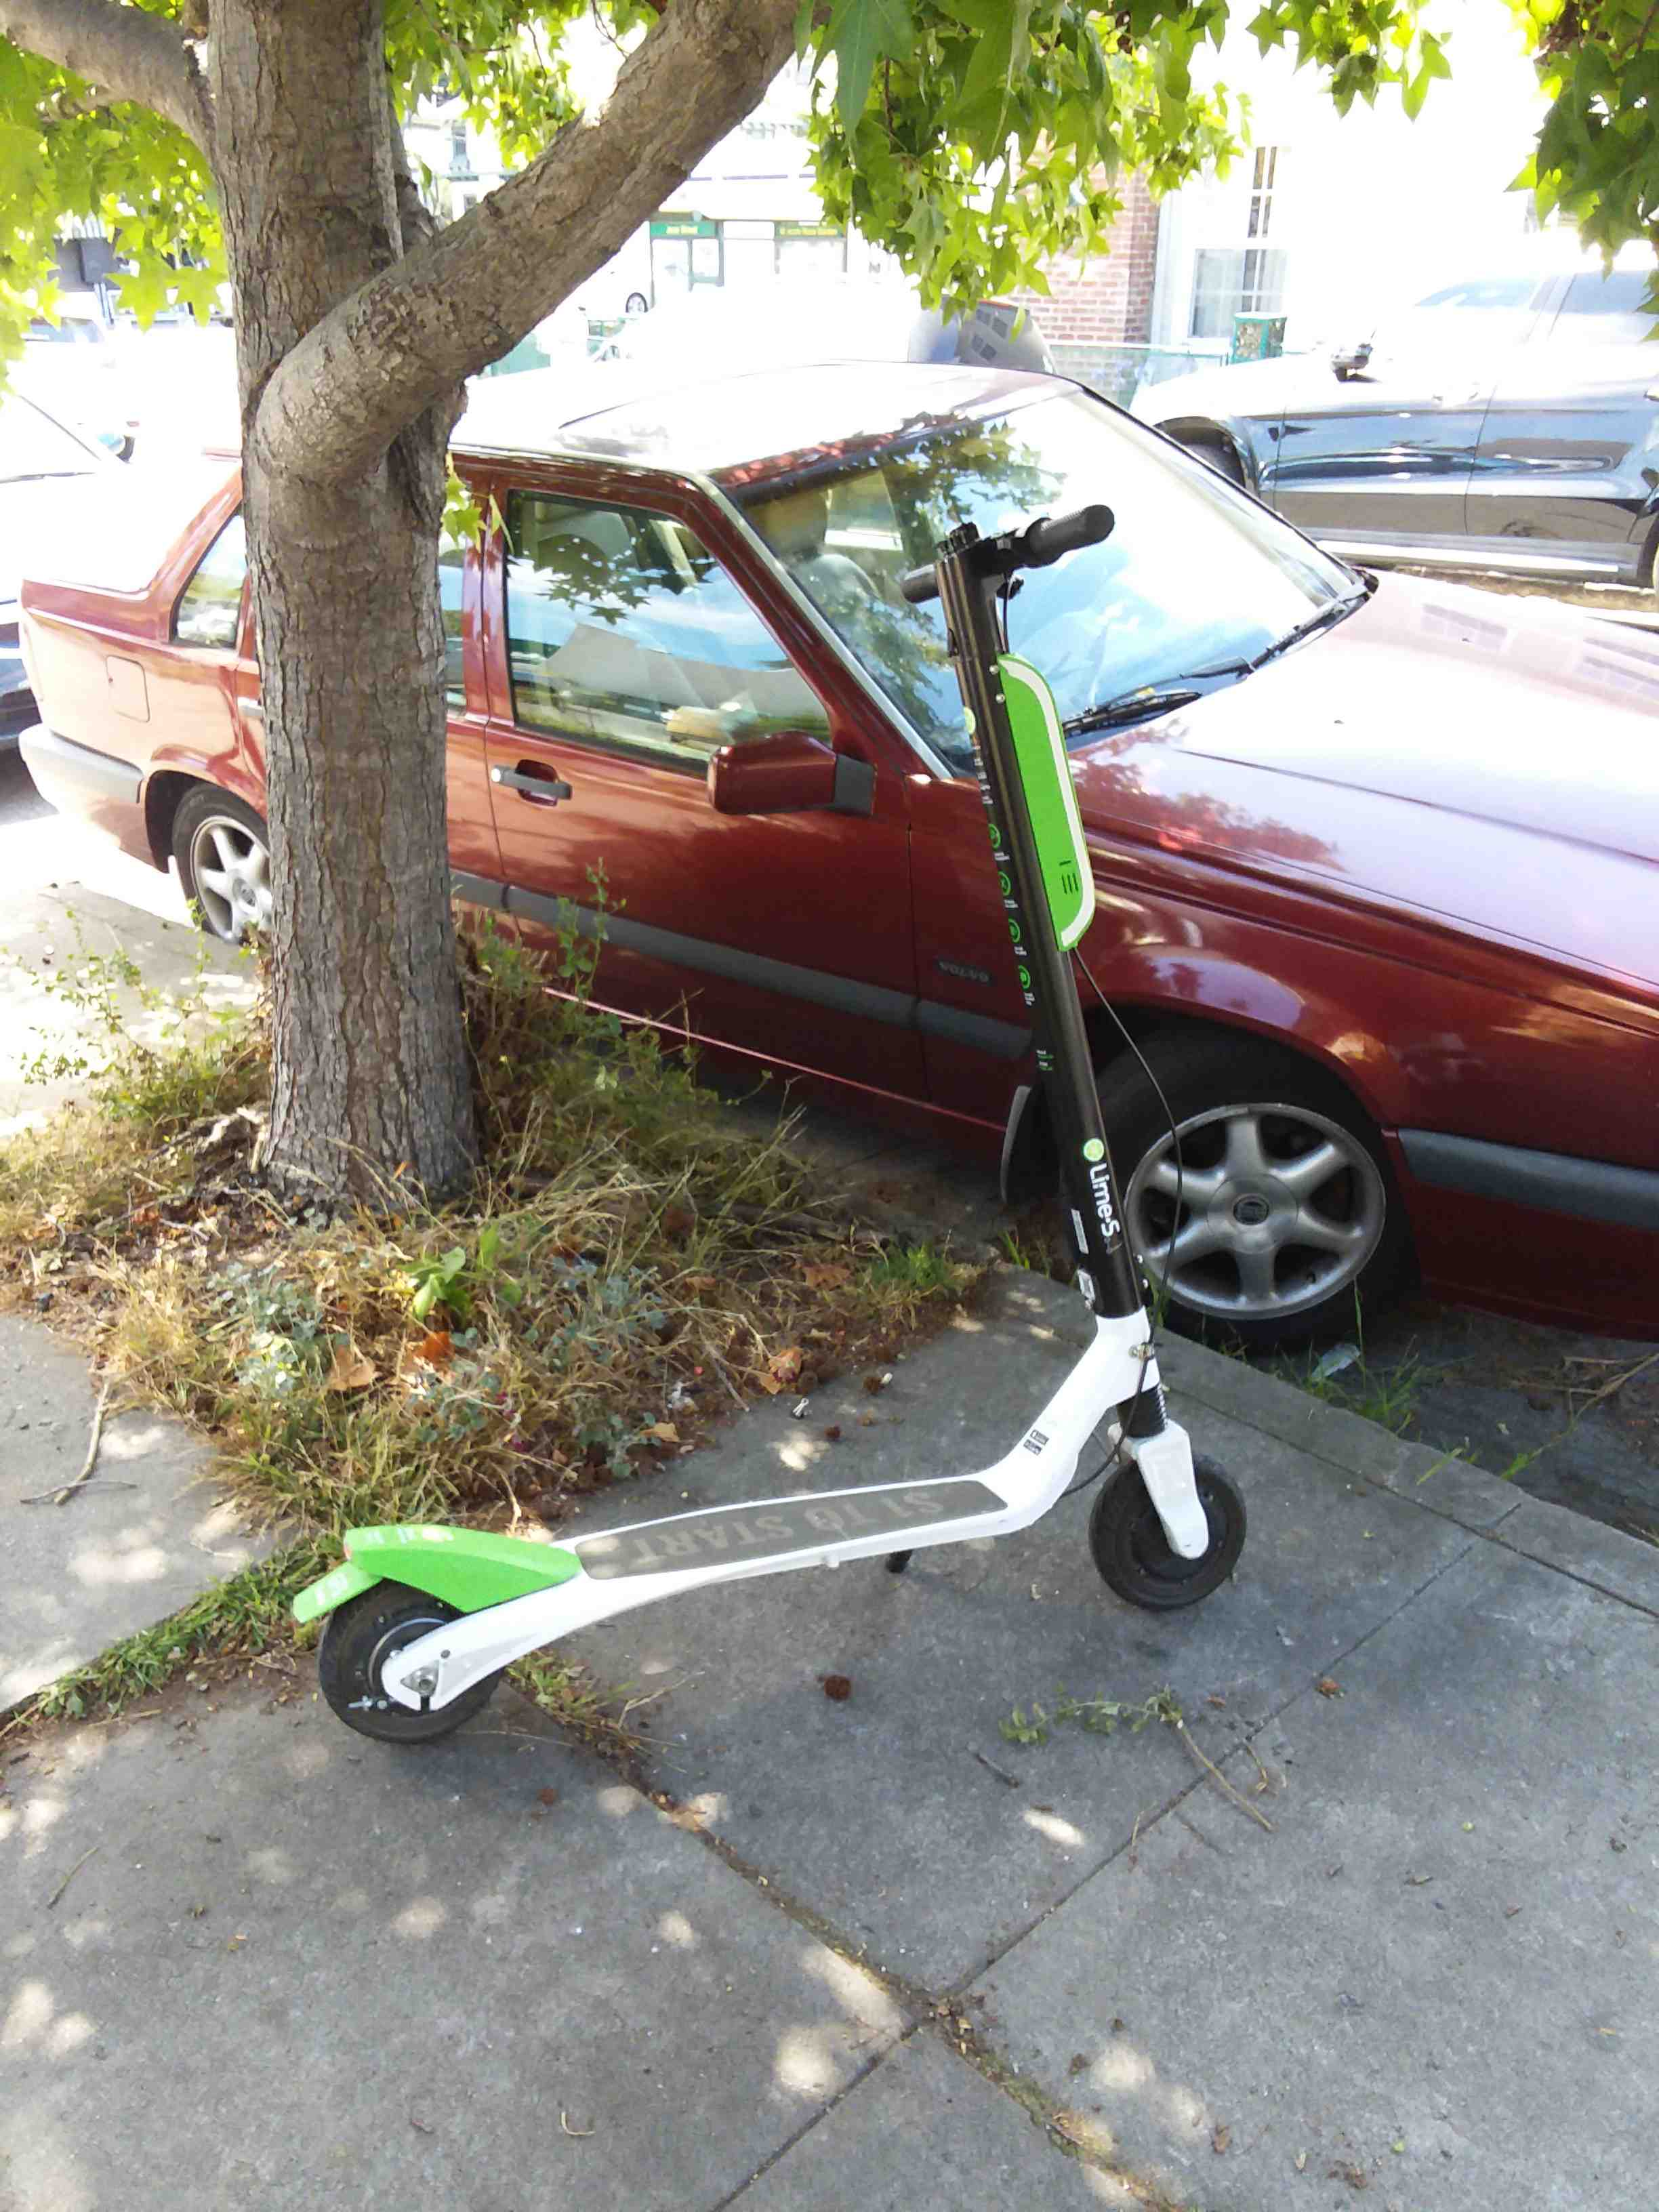scooter: (260, 477, 1246, 1782)
